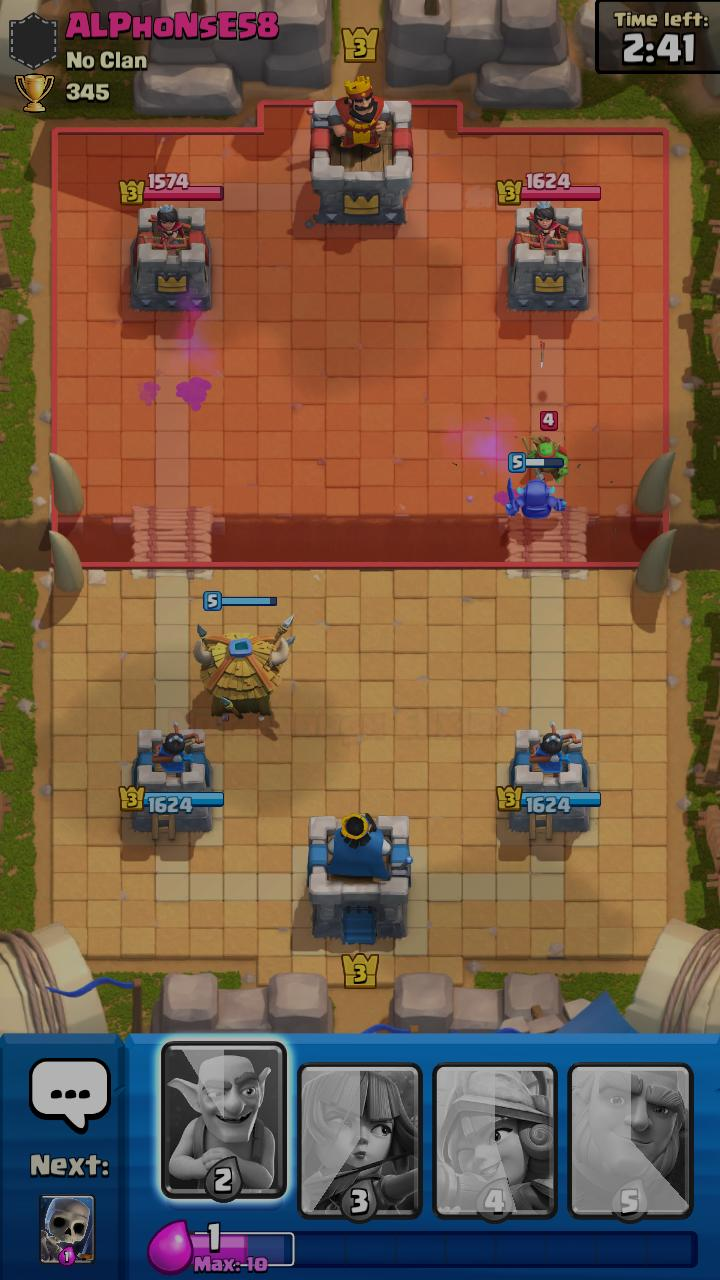ally: (194, 590, 296, 721), (506, 452, 567, 518)
enemy: (521, 411, 568, 483)
